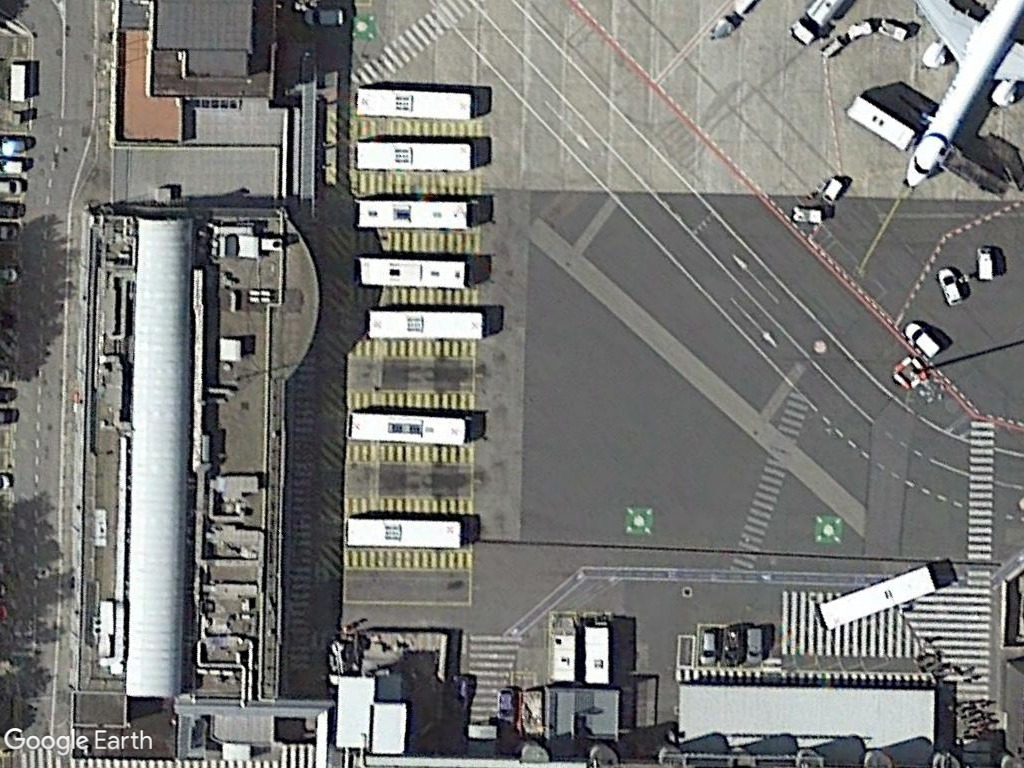bus: (813, 555, 942, 633), (349, 250, 474, 294), (351, 134, 479, 176), (348, 192, 478, 233), (341, 509, 464, 552), (360, 304, 490, 344), (343, 409, 469, 450), (351, 85, 481, 123)
car: (902, 318, 944, 362), (934, 264, 965, 310), (742, 622, 766, 670), (973, 242, 998, 286), (697, 623, 720, 669)
